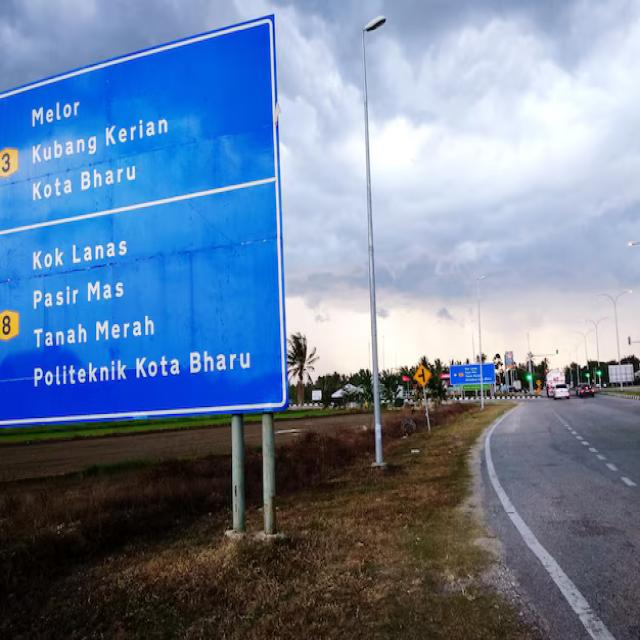Billboard_LHS: (0, 1, 292, 435)
Billboard_small: (436, 352, 503, 393), (604, 354, 640, 385), (406, 361, 436, 393)
Roadcorner: (472, 398, 625, 638)
Roadlane: (535, 402, 639, 500)
